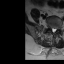CCS_stenosis: (53, 26, 54, 34)
LFS_severe_stenosis: (56, 26, 58, 31)
LLS_normal: (54, 27, 56, 32)
RFS_stenosis: (49, 25, 51, 29)
RLS_stenosis: (51, 27, 53, 32)
